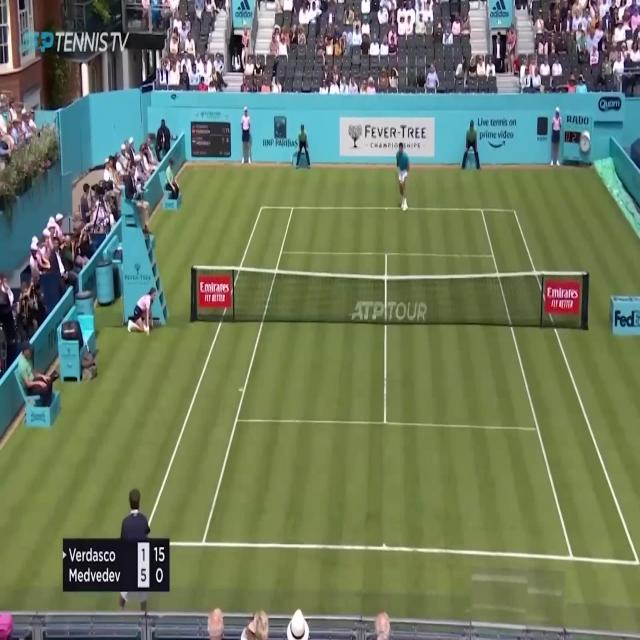bottom-dead-zone: (203, 420, 571, 556)
court: (141, 208, 638, 562)
left-doubles-alley: (141, 207, 293, 545)
left-service-box: (236, 252, 386, 424)
net: (189, 264, 591, 332)
right-doubles-alley: (481, 210, 638, 563)
right-service-box: (385, 253, 537, 427)
top-dead-zone: (281, 208, 494, 256)
